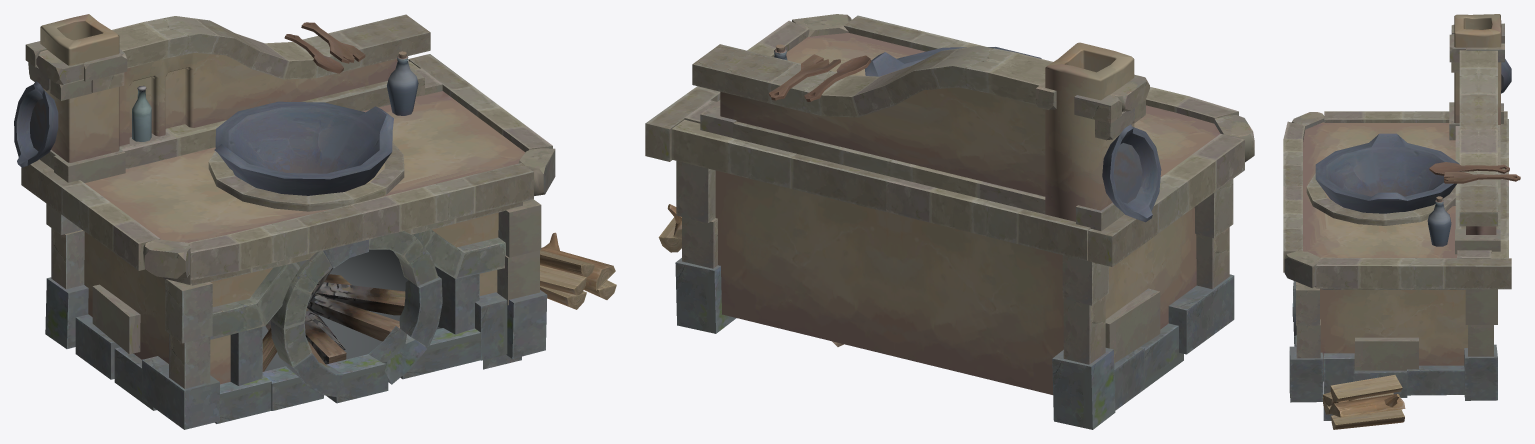
File: Homeworld_Interior_Md_Table_Cooking_01_Vo.fbx
3 renders of one model, left to right at view 1: azimuth 30°, elevation 25°; view 2: azimuth 150°, elevation 25°; view 3: azimuth 270°, elevation 25°, orthographic. The views are drawn at different scales.
Visible parts, largest first — view 1: Area_Common_Build_Cooking_A_01_Lod0; view 2: Area_Common_Build_Cooking_A_01_Lod0; view 3: Area_Common_Build_Cooking_A_01_Lod0.
Part boxes in pixels (box(x1,y1,x2,y2)): Area_Common_Build_Cooking_A_01_Lod0: box(14, 14, 616, 429); Area_Common_Build_Cooking_A_01_Lod0: box(645, 14, 1254, 429); Area_Common_Build_Cooking_A_01_Lod0: box(1283, 14, 1520, 429).
Size of the model in its own units: 2.93 by 1.9 by 1.52.
1 material, 1 textured.
